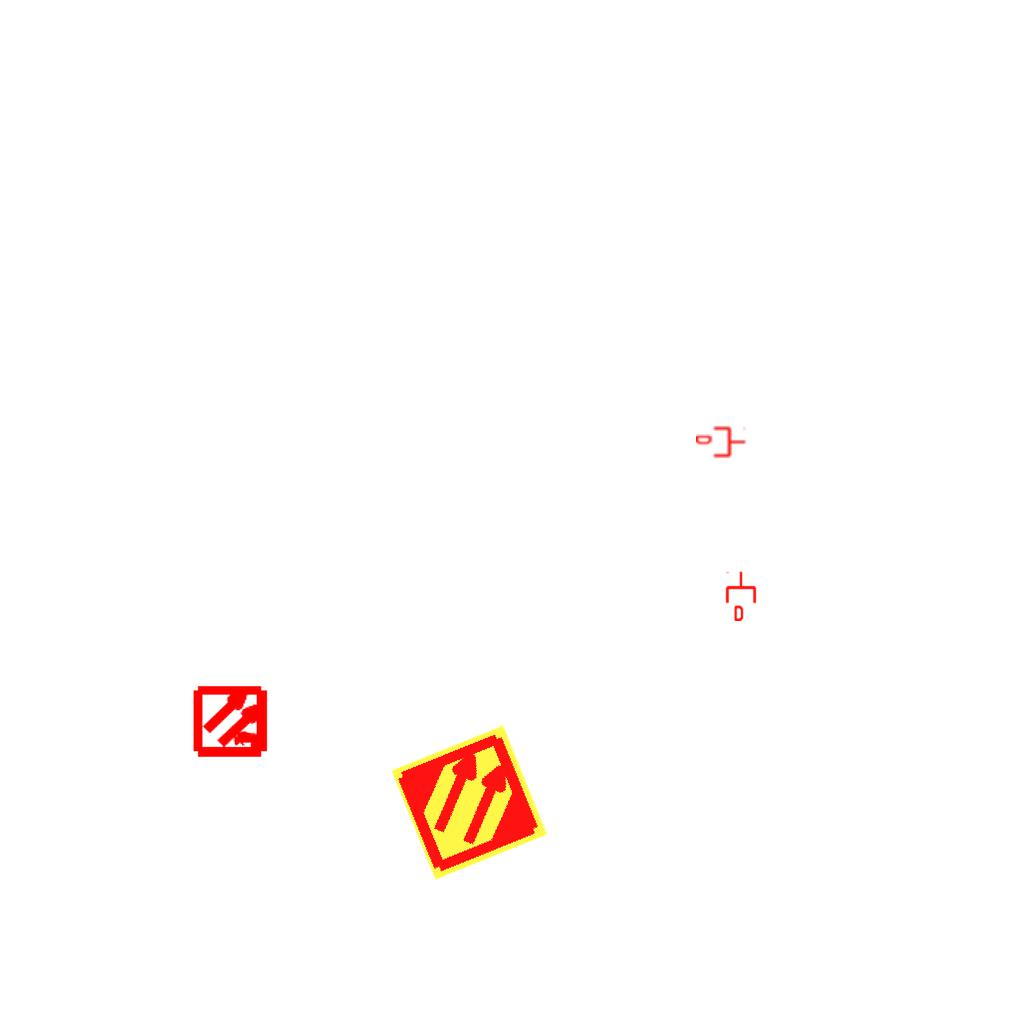ASR_Ansaugrauchmelder: (388, 721, 551, 884)
Datenanschluss_einfach: (696, 425, 746, 459), (724, 571, 758, 621)
OT_Multisensormelder_(Kombination_RMO_WMD): (176, 665, 289, 778)
